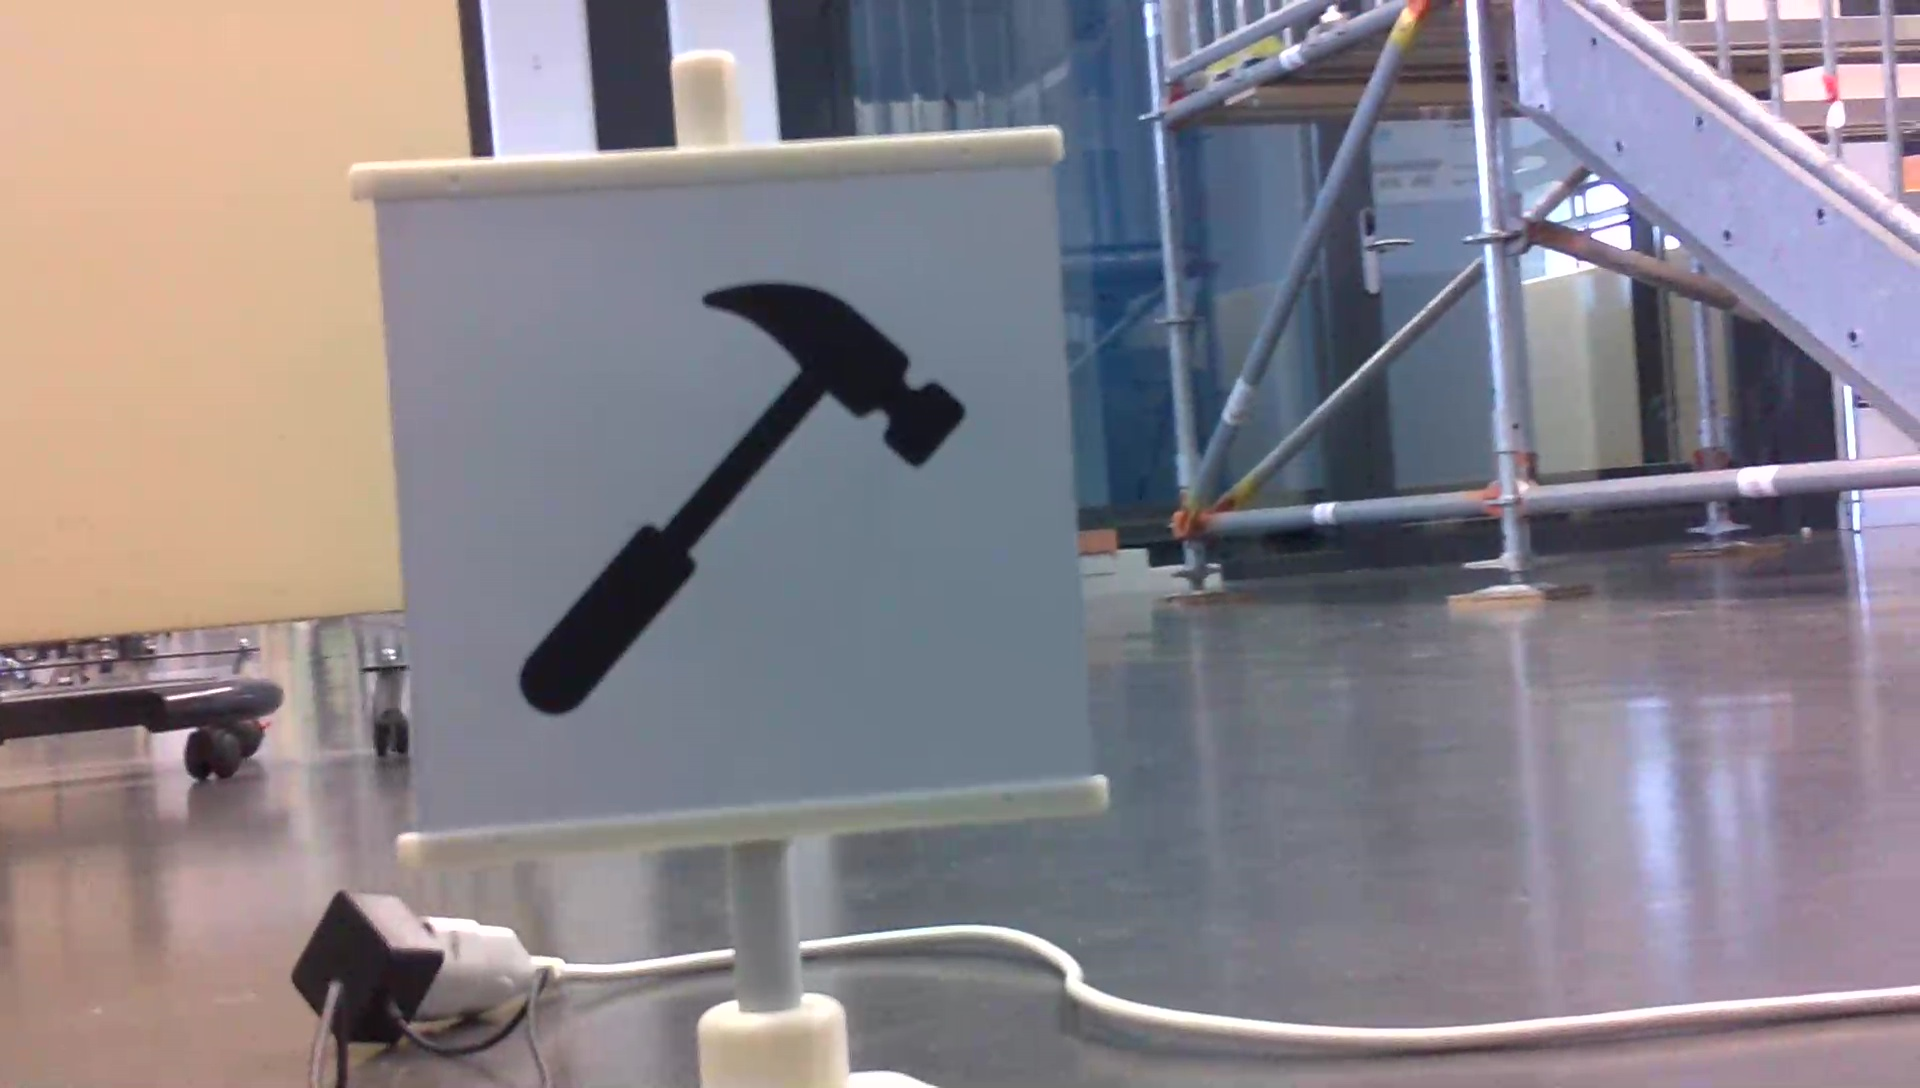hammer: (502, 273, 972, 725)
